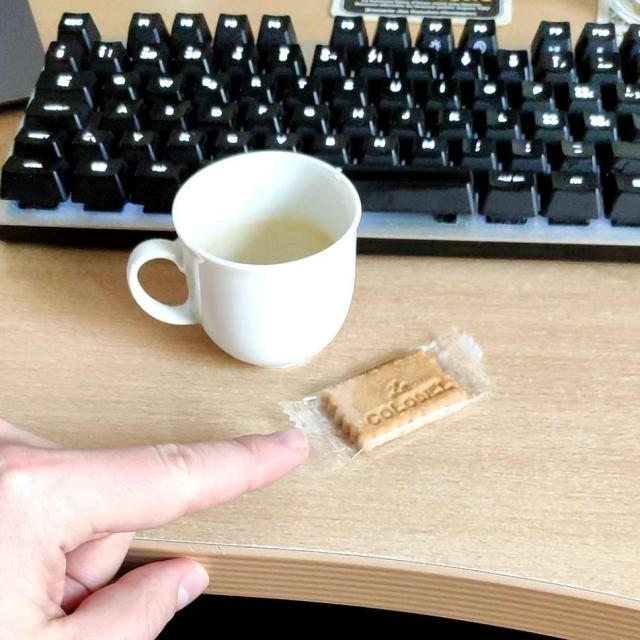biscuits: (327, 344, 483, 453)
